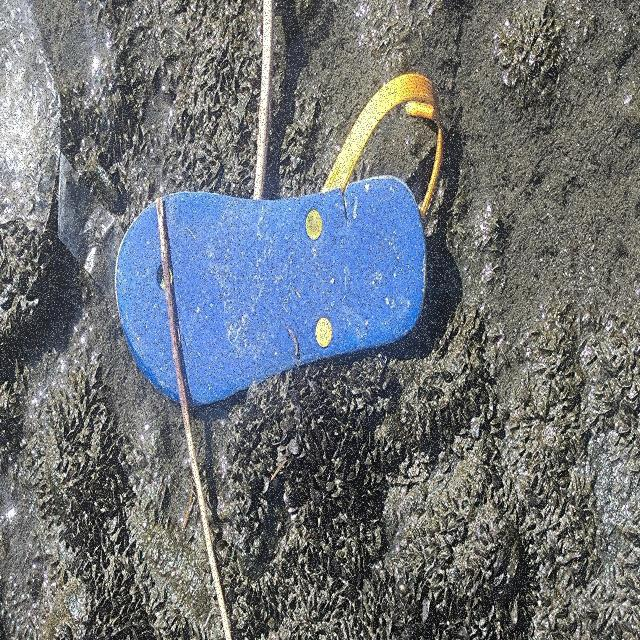rubber_waste: (115, 175, 429, 409)
